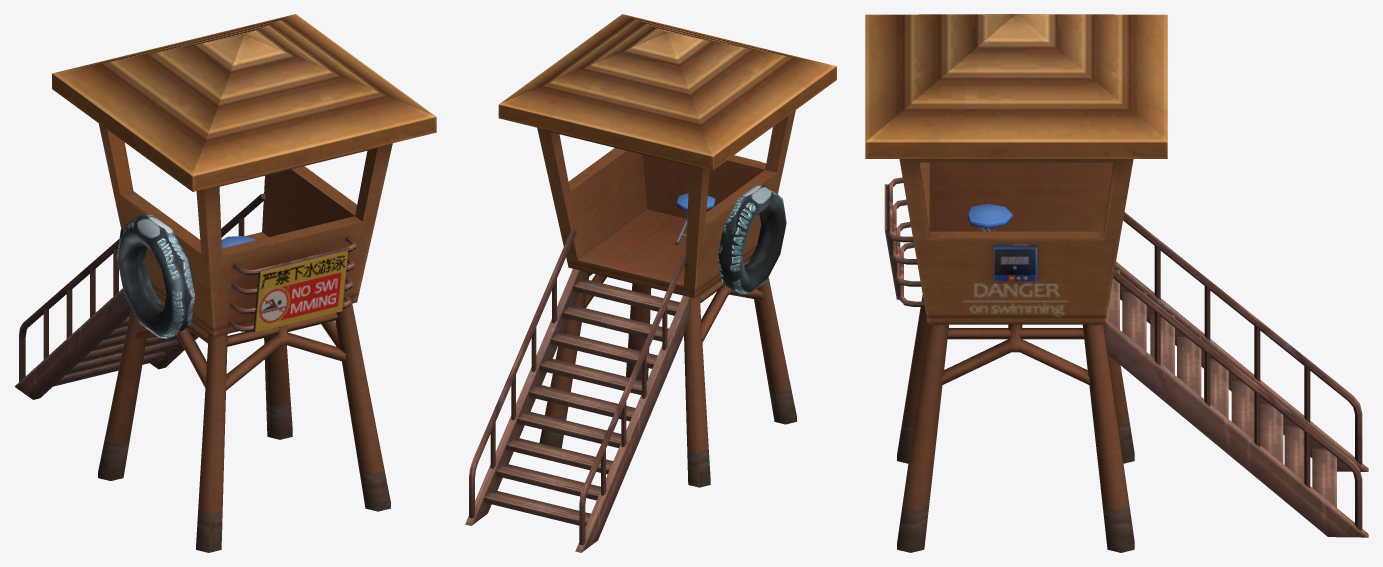
The model's file is furni_0201010.FBX.
3 views of the same model, side by side, from view 1: azimuth 30°, elevation 25°; view 2: azimuth 150°, elevation 25°; view 3: azimuth 270°, elevation 25° (orthographic). The views are drawn at different scales.
Parts seen in each view (by area): view 1: furni_0201010; view 2: furni_0201010; view 3: furni_0201010.
Part boxes in pixels (<box>): furni_0201010: <box>14,14,436,552</box>; furni_0201010: <box>465,14,836,552</box>; furni_0201010: <box>865,14,1368,552</box>.
Bounding box in the file's own units: 235 × 419 × 391.
Materials: 3 (3 with a texture image).
